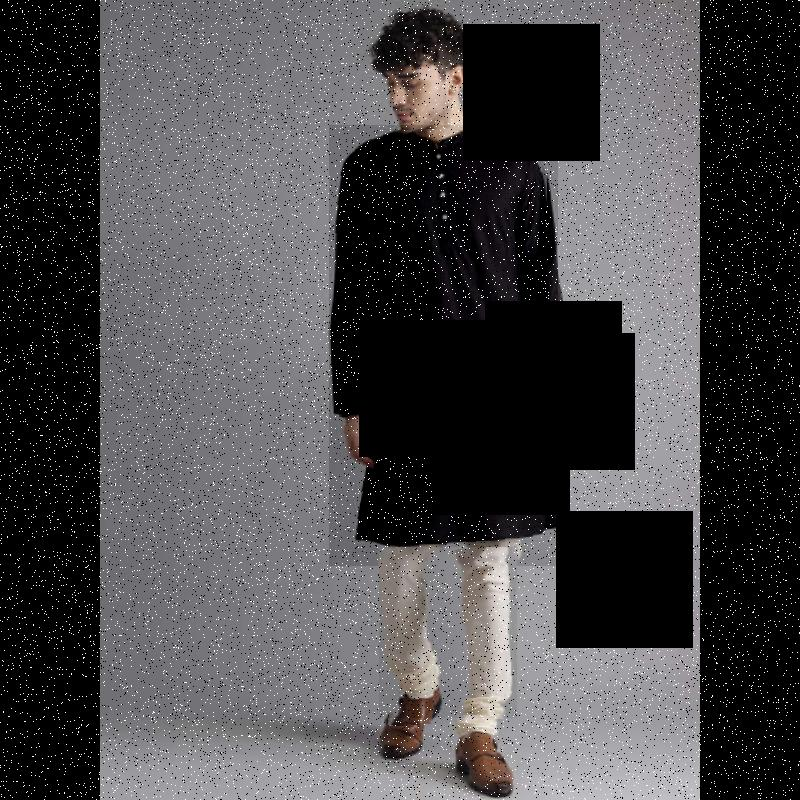Kurta: (329, 125, 558, 566)
Pant: (379, 547, 517, 718)
